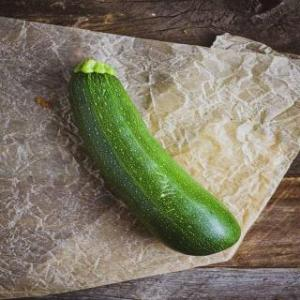zucchini: (74, 58, 244, 255)
